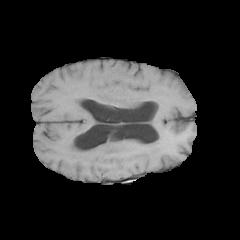glioma: (62, 138, 164, 167)
